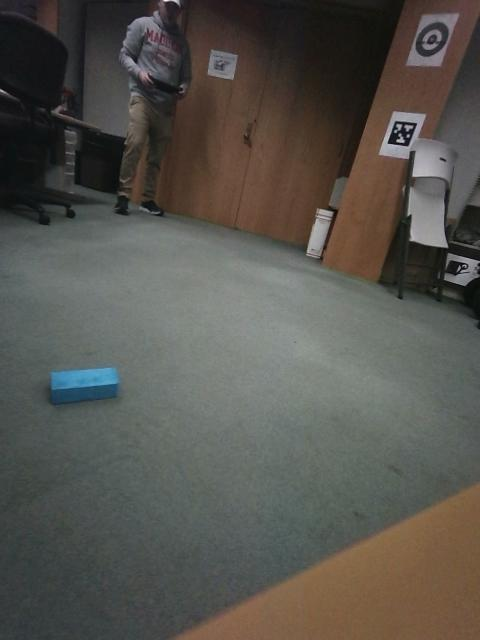block: (125, 339, 198, 390)
